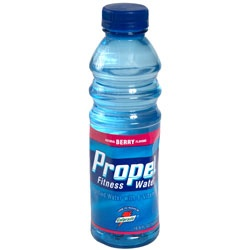grozi_56: (88, 3, 160, 248)
